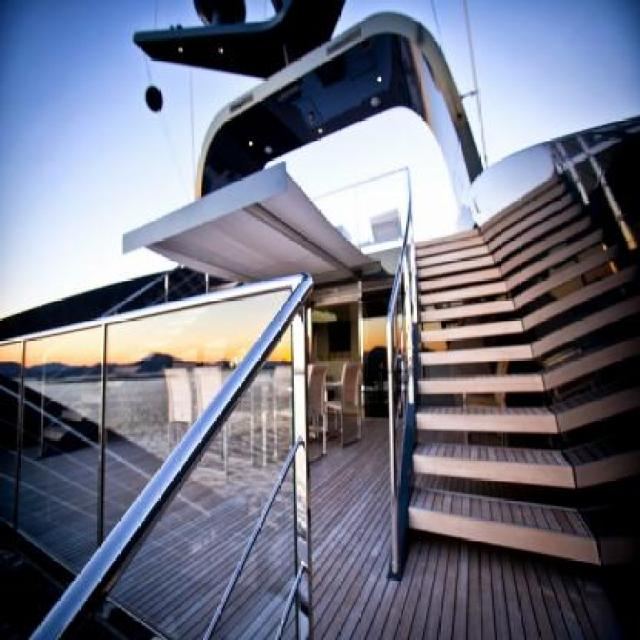stair: (410, 229, 598, 568)
